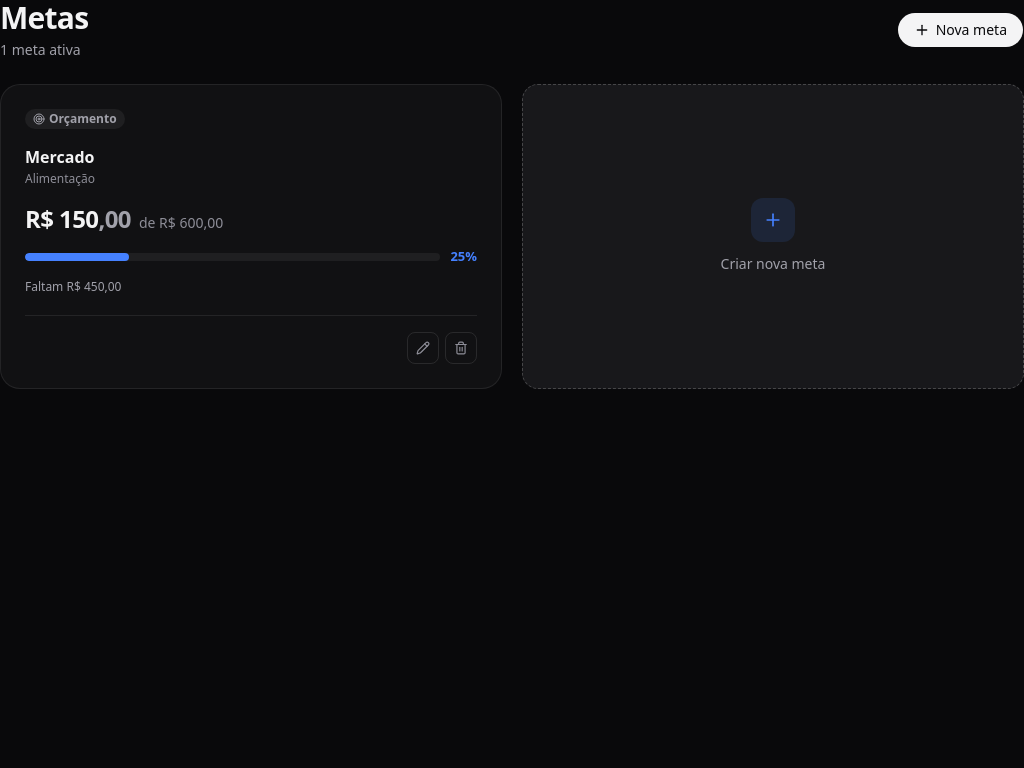
Scenario: Goals › salva a edição de uma meta BUDGET (categoria some do form mas não pode travar o submit)
Click the button named "editar meta" at (423, 348), box 407,332 -> 439,364
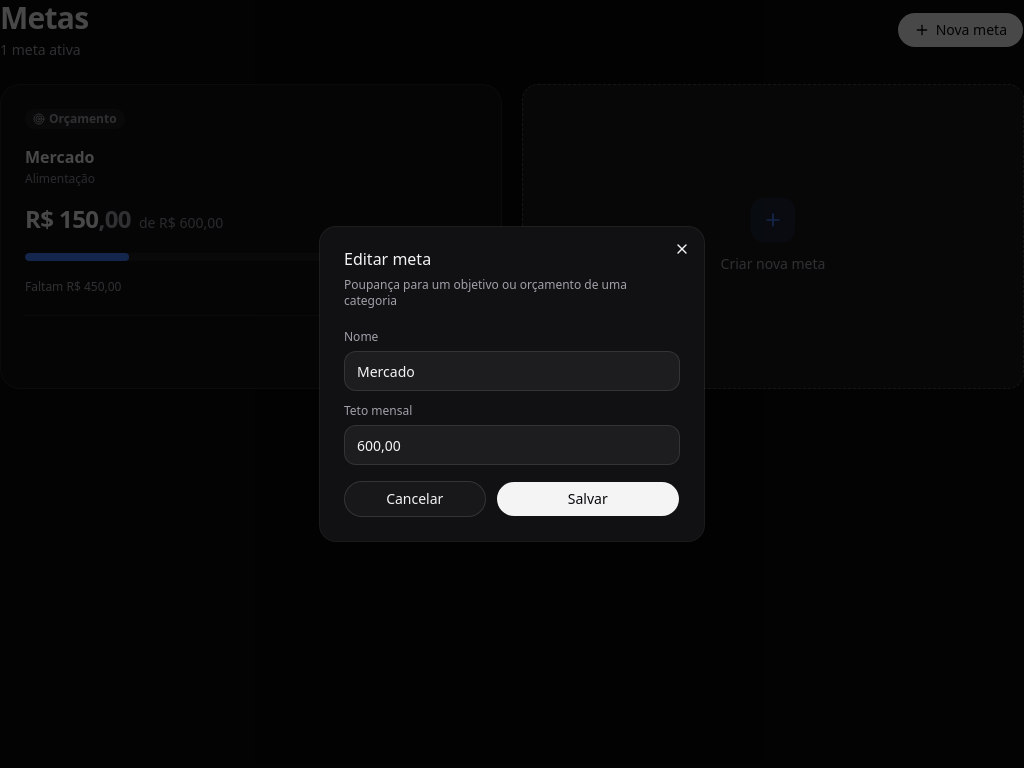
Result: the dialog is shown at 320,227 -> 704,541
Click the button "Salvar" at (588, 499), box 496,481 -> 680,517
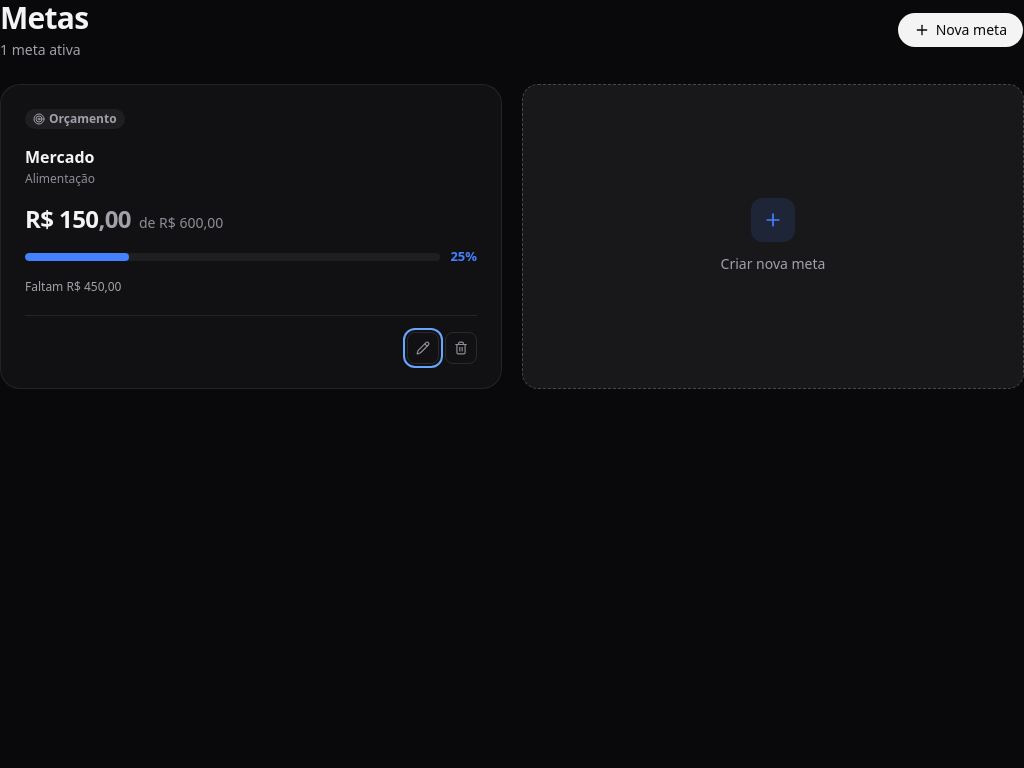
Result: the dialog is gone
